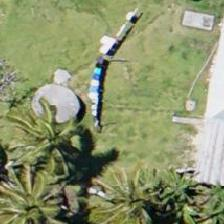Kelapa_Sawit: (1, 98, 91, 188), (0, 159, 74, 224)
